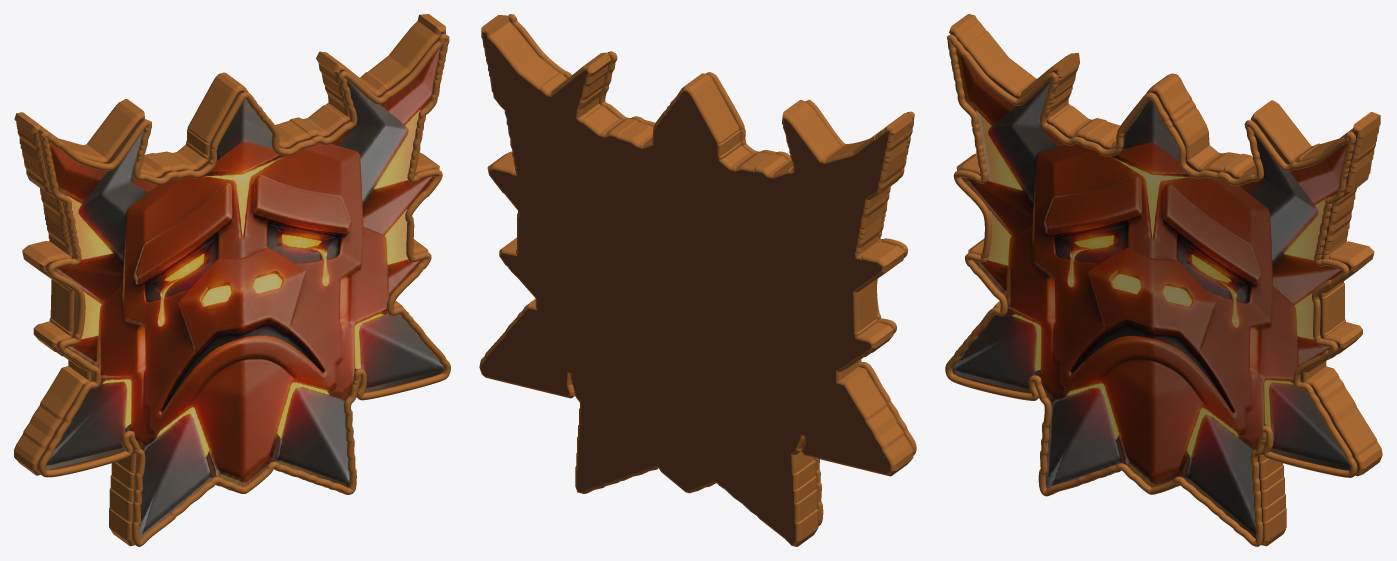
The model's file is bad-legends-achievement-badge.glb.
3 views of the same model, side by side, from view 1: azimuth 30°, elevation 25°; view 2: azimuth 150°, elevation 25°; view 3: azimuth 330°, elevation 25° (orthographic).
Parts seen in each view (by area): view 1: Bad Legends enamel face, Burnished bronze Bad Legends pin body, Burnished bronze contour rim; view 2: Burnished bronze Bad Legends pin body, Burnished bronze contour rim; view 3: Bad Legends enamel face, Burnished bronze Bad Legends pin body, Burnished bronze contour rim.
Boxes of the visible parts, bbox=[...] form: Bad Legends enamel face: bbox=[46, 48, 443, 537]; Burnished bronze Bad Legends pin body: bbox=[14, 14, 446, 546]; Burnished bronze contour rim: bbox=[38, 33, 450, 546]; Burnished bronze Bad Legends pin body: bbox=[479, 15, 913, 546]; Burnished bronze contour rim: bbox=[508, 14, 916, 525]; Bad Legends enamel face: bbox=[952, 49, 1350, 538]; Burnished bronze Bad Legends pin body: bbox=[949, 14, 1382, 546]; Burnished bronze contour rim: bbox=[945, 34, 1357, 546].
Size of the model in its own units: 5.62 by 5.73 by 0.617.
3 materials, 1 textured.
